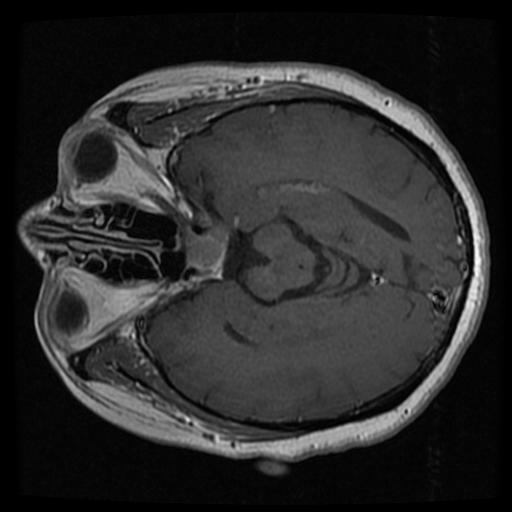pituitary tumour: (184, 226, 228, 278)
